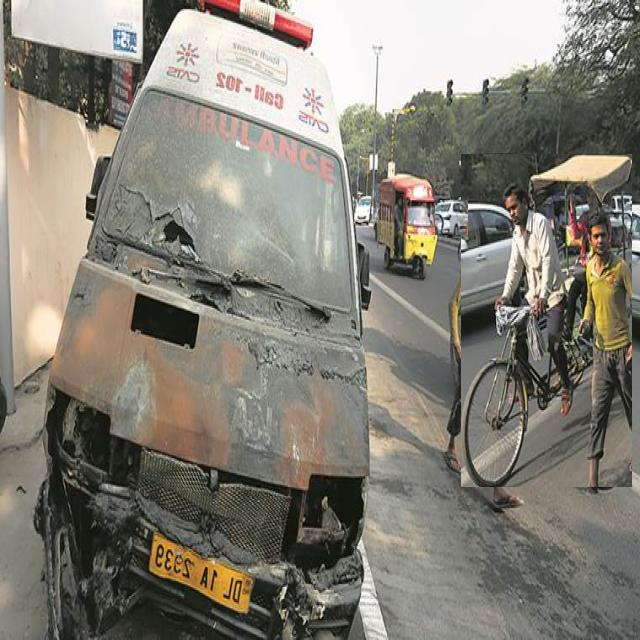accident: (39, 0, 370, 636)
bicycle: (461, 155, 631, 487), (376, 173, 436, 277)
car: (580, 206, 640, 316), (435, 200, 468, 235), (354, 195, 370, 223)
